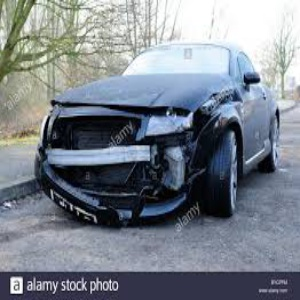bumper: (34, 165, 209, 214)
